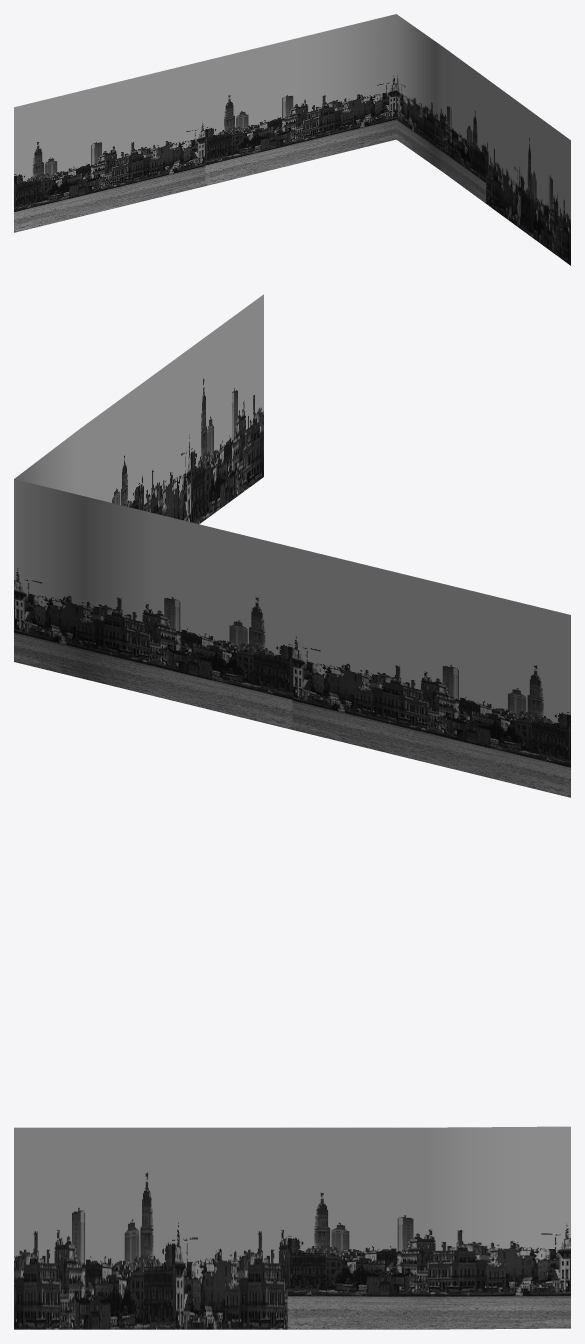
File: env_skyline.glb
The picture shows the model from 3 angles, top to bottom: view 1: azimuth 30°, elevation 25°; view 2: azimuth 150°, elevation 25°; view 3: azimuth 270°, elevation 25°; orthographic projection. The views are drawn at different scales.
Parts seen in each view (by area): view 1: env_skyline; view 2: env_skyline; view 3: env_skyline.
Boxes of the visible parts, box(x1,y1,x2,y2) form: env_skyline: box(14, 14, 570, 265); env_skyline: box(14, 294, 570, 797); env_skyline: box(14, 1126, 570, 1329).
Size of the model in its own units: 0.4768 by 0.149 by 0.3724.
Materials: 1 (1 with a texture image).
